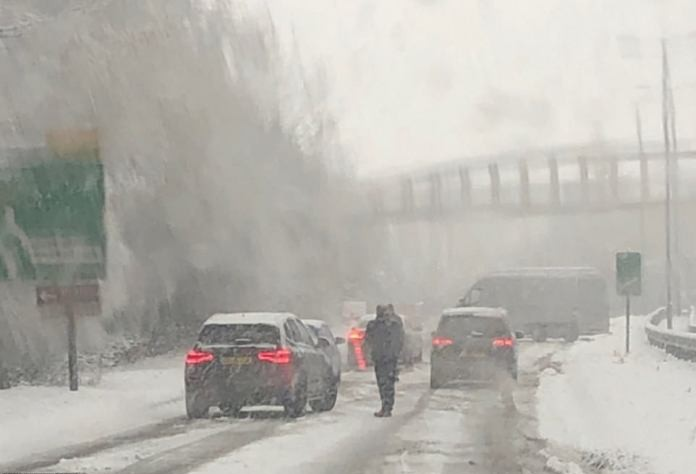car: (184, 310, 342, 421), (462, 270, 610, 342), (427, 307, 523, 389), (350, 306, 422, 362)
person: (361, 303, 404, 417), (384, 292, 403, 387)
